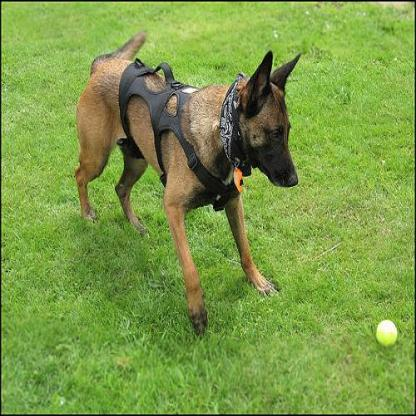malinois: (72, 26, 302, 340)
